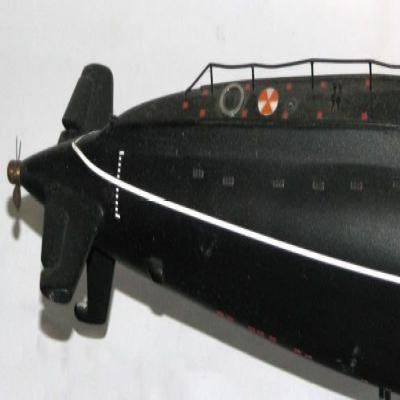other: (10, 58, 400, 400)
